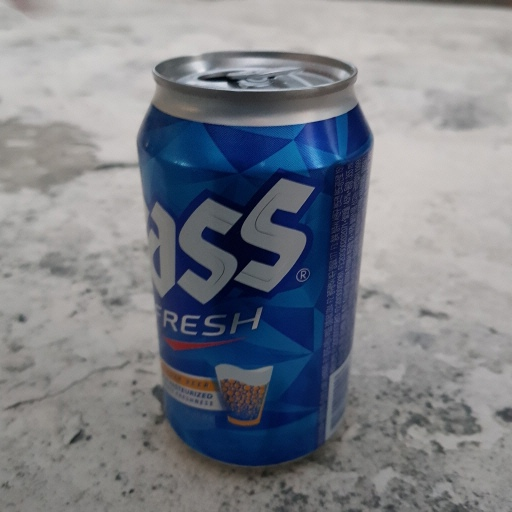Metal_0: (137, 41, 379, 475)
